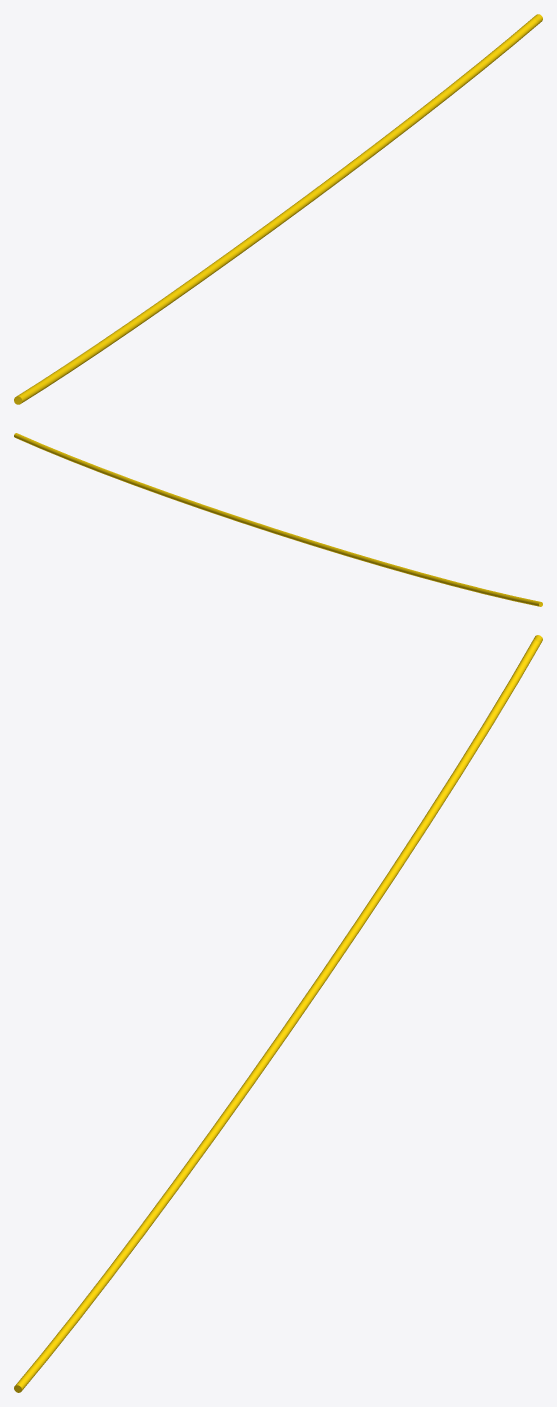
The model's file is Event_421556567_track_9.fbx.
3 renders of one model, top to bottom at view 1: azimuth 90°, elevation 25°; view 2: azimuth 150°, elevation 25°; view 3: azimuth 270°, elevation 25°, orthographic. The views are drawn at different scales.
Visible parts, largest first — view 1: Model; view 2: Model; view 3: Model.
Boxes of the visible parts, left/top/right/bottom form: Model: left=14, top=14, right=542, bottom=404; Model: left=14, top=433, right=542, bottom=606; Model: left=14, top=635, right=542, bottom=1392.
Bounding box in the file's own units: 6.16 × 0.971 × 2.43.
